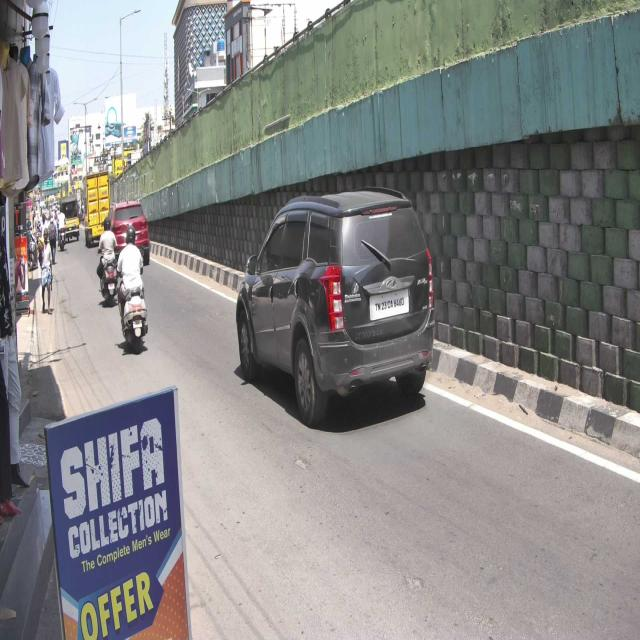single_rider: (113, 222, 151, 355)
